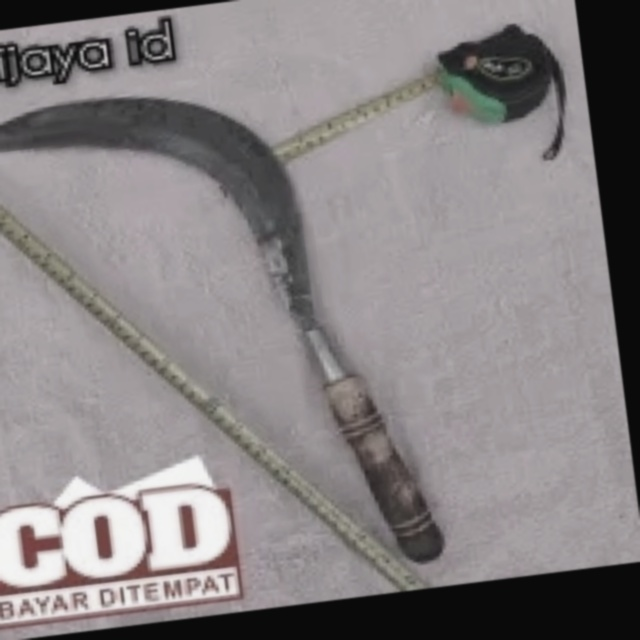Sharp-Object: (0, 61, 442, 615)
